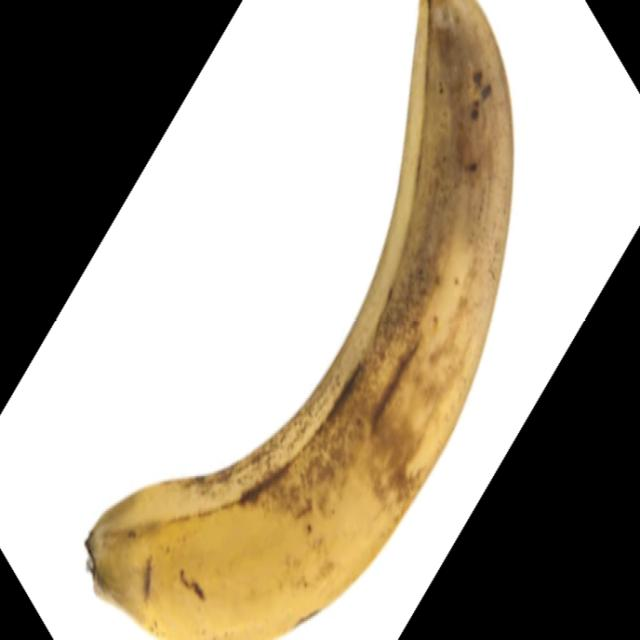overripe: (77, 1, 517, 640)
